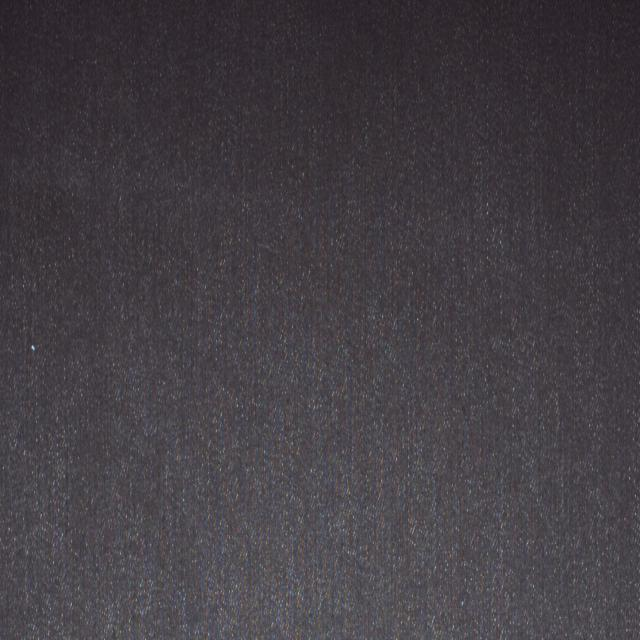Knot: (30, 345, 36, 352)
